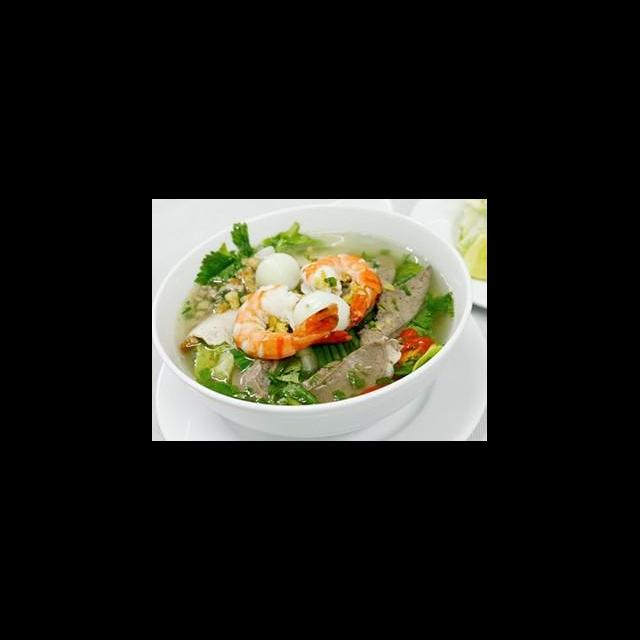gan: (356, 260, 436, 352)
thit bam: (187, 281, 250, 320)
thit heo: (182, 302, 248, 349)
tom: (230, 281, 354, 361), (296, 251, 384, 333)
trung: (252, 251, 304, 292)
